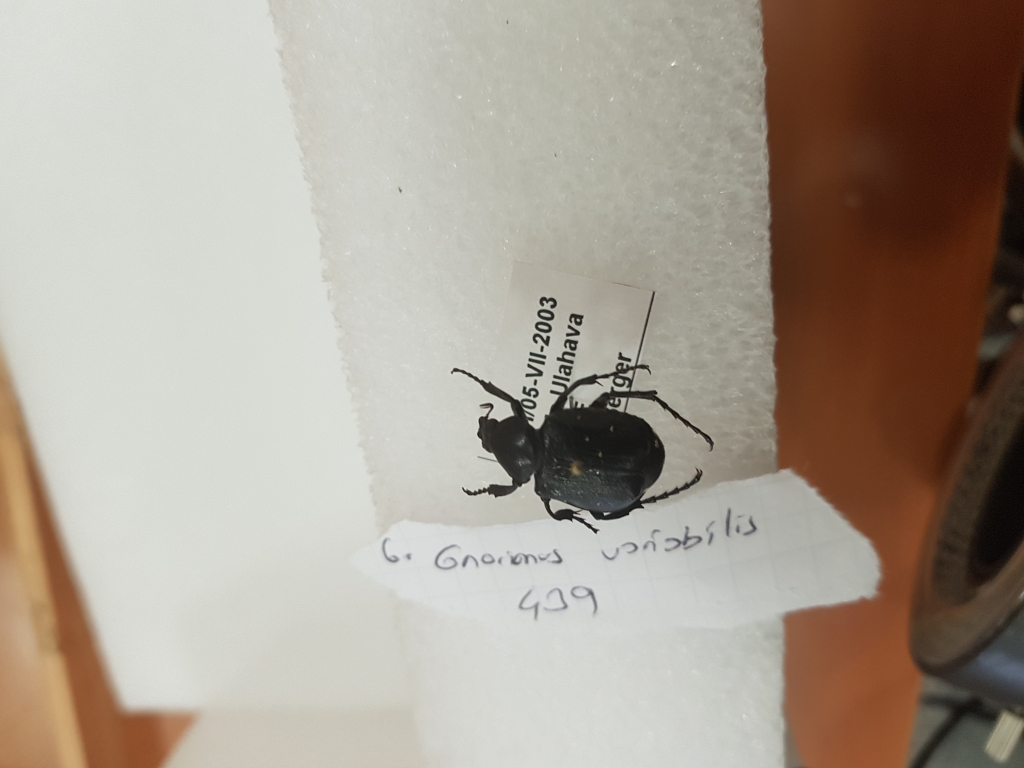Gnorimus_variabilis: (441, 357, 721, 535)
